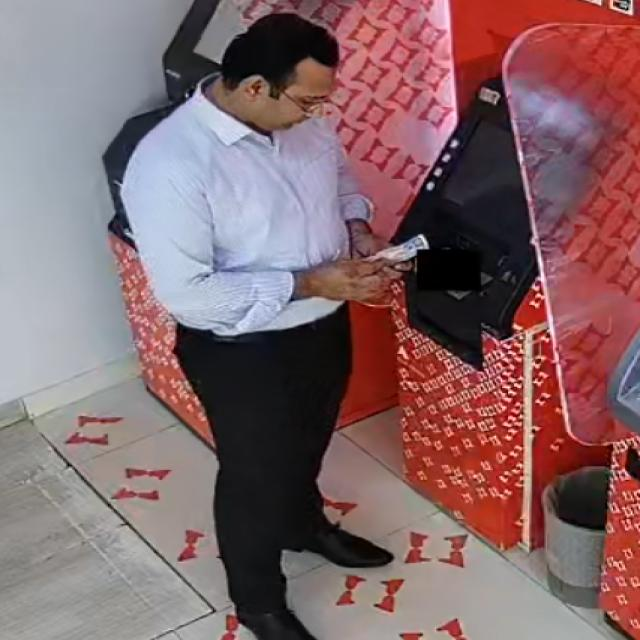note: (347, 222, 444, 268)
